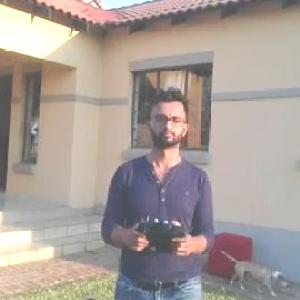follow: (95, 84, 219, 299)
null: (217, 245, 289, 296)
